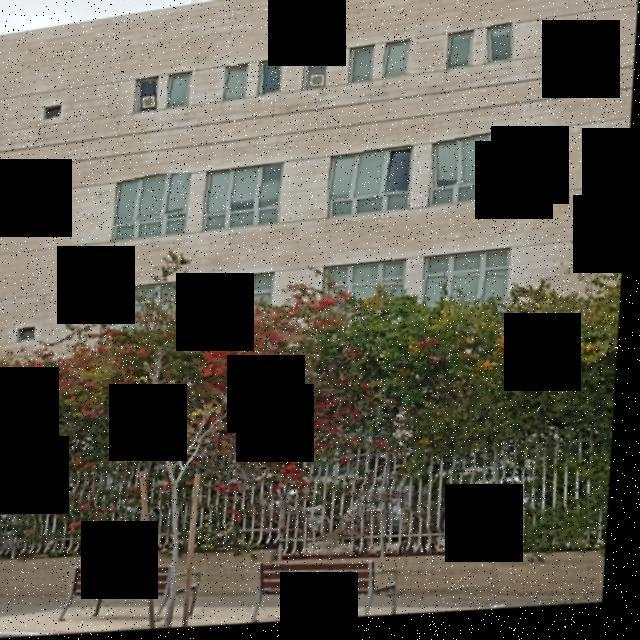Window: (424, 274, 516, 332), (428, 138, 521, 194), (102, 300, 188, 360), (325, 279, 409, 340), (194, 294, 279, 354), (330, 150, 413, 206), (202, 166, 292, 215), (116, 176, 194, 227), (383, 43, 417, 86), (482, 29, 516, 69), (449, 37, 476, 77), (349, 48, 373, 90), (260, 62, 284, 101), (135, 78, 160, 115), (167, 75, 192, 112), (225, 67, 248, 104), (306, 58, 328, 92), (21, 328, 43, 344), (45, 105, 63, 122), (35, 214, 52, 228)
